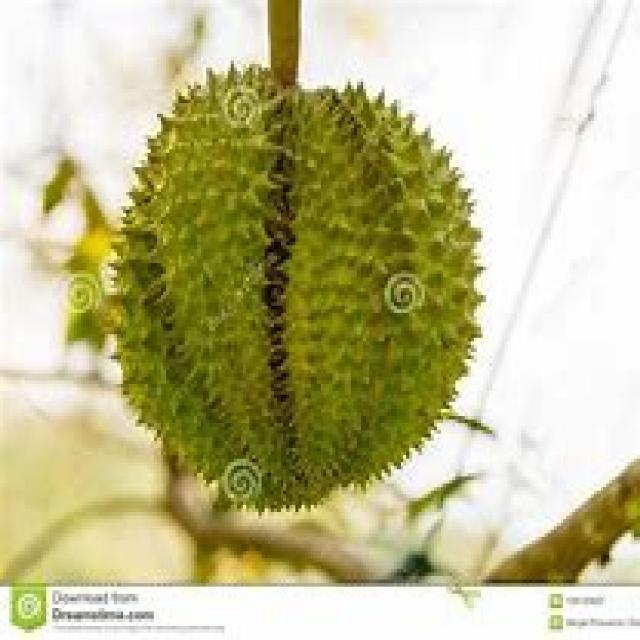immature: (109, 61, 487, 516)
